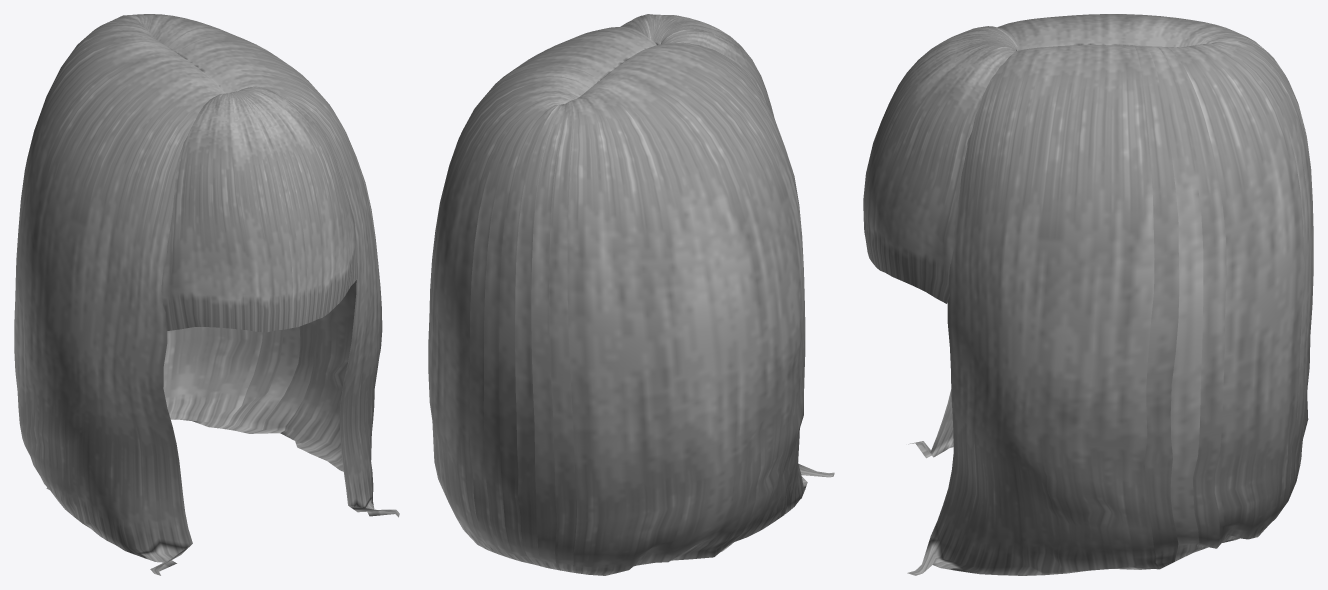
Rendered from daz_hair_blunt_bob_bangs.glb.
3 renders of one model, left to right at view 1: azimuth 30°, elevation 25°; view 2: azimuth 150°, elevation 25°; view 3: azimuth 270°, elevation 25°, orthographic. The views are drawn at different scales.
Visible parts, largest first — view 1: daz_hair_blunt_bob_bangs; view 2: daz_hair_blunt_bob_bangs; view 3: daz_hair_blunt_bob_bangs.
Part boxes in pixels (<box>): daz_hair_blunt_bob_bangs: <box>14,14,399,575</box>; daz_hair_blunt_bob_bangs: <box>428,14,834,575</box>; daz_hair_blunt_bob_bangs: <box>863,14,1313,575</box>.
Bounding box in the file's own units: 0.1892 × 0.2428 × 0.2105.
1 material, 1 textured.
